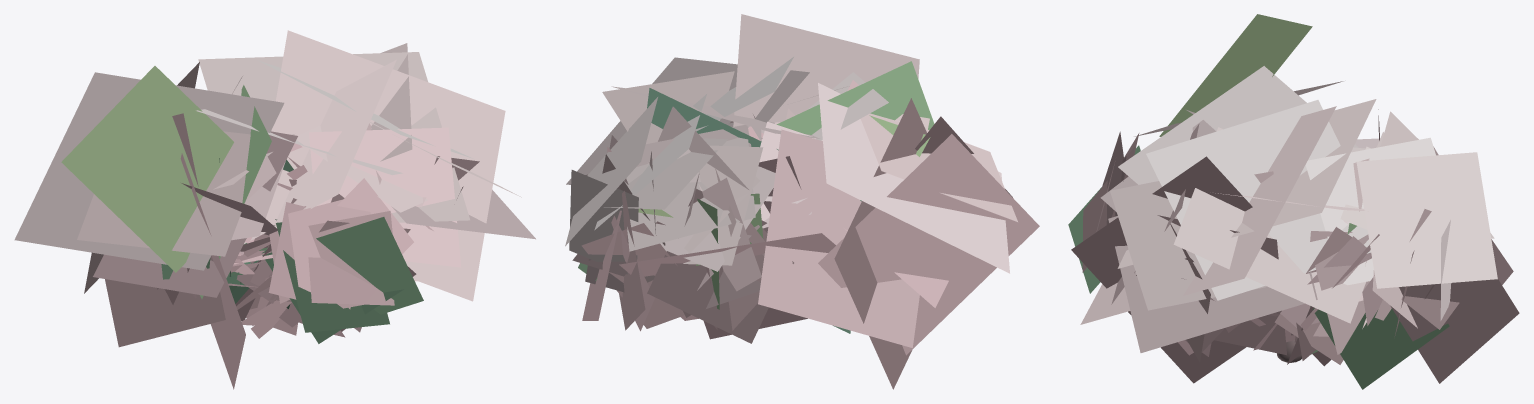
The model's file is crab_apple_v1.glb.
The picture shows the model from 3 angles, left to right: view 1: azimuth 30°, elevation 25°; view 2: azimuth 150°, elevation 25°; view 3: azimuth 270°, elevation 25°; orthographic projection.
Visible parts, largest first — view 1: far, near; view 2: far, near; view 3: far, near.
Part boxes in pixels (x1,y1,x2,y2): far: (14, 30, 535, 389); near: (157, 76, 479, 343); far: (565, 14, 1039, 389); near: (569, 108, 930, 343); far: (1071, 14, 1497, 383); near: (1068, 110, 1519, 389).
Bounding box in the file's own units: 12.76 × 8.11 × 11.05.
